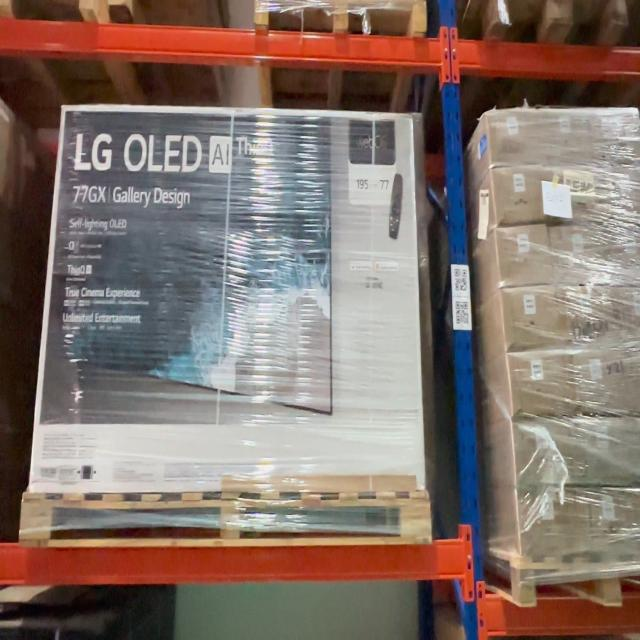box: (63, 115, 412, 491), (572, 352, 628, 412), (522, 492, 574, 554), (518, 418, 567, 483), (505, 286, 554, 350), (513, 351, 563, 413), (562, 288, 614, 343), (582, 421, 628, 482), (486, 112, 540, 163), (496, 165, 540, 224), (501, 224, 545, 282), (548, 167, 594, 219), (592, 109, 640, 158), (540, 111, 588, 158), (555, 228, 596, 283), (590, 492, 628, 546)
